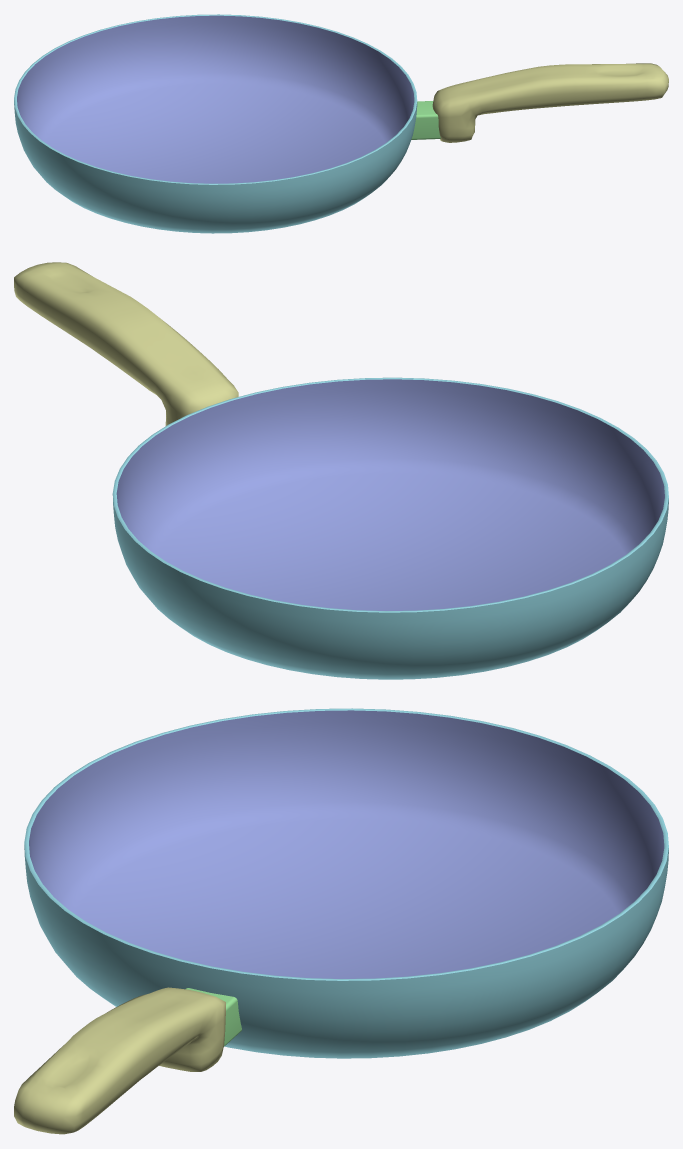
Rendered from Tava.fbx.
3 renders of one model, top to bottom at view 1: azimuth 30°, elevation 25°; view 2: azimuth 150°, elevation 25°; view 3: azimuth 270°, elevation 25°, orthographic. The views are drawn at different scales.
Visible parts, largest first — view 1: Tava (×4); view 2: Tava (×3); view 3: Tava (×4).
Boxes of the visible parts, left/top/right/bottom form: Tava (×4): left=14, top=14, right=668, bottom=233; Tava (×3): left=14, top=262, right=668, bottom=679; Tava (×4): left=14, top=708, right=668, bottom=1134.
Size of the model in its own units: 431 by 58.19 by 286.
